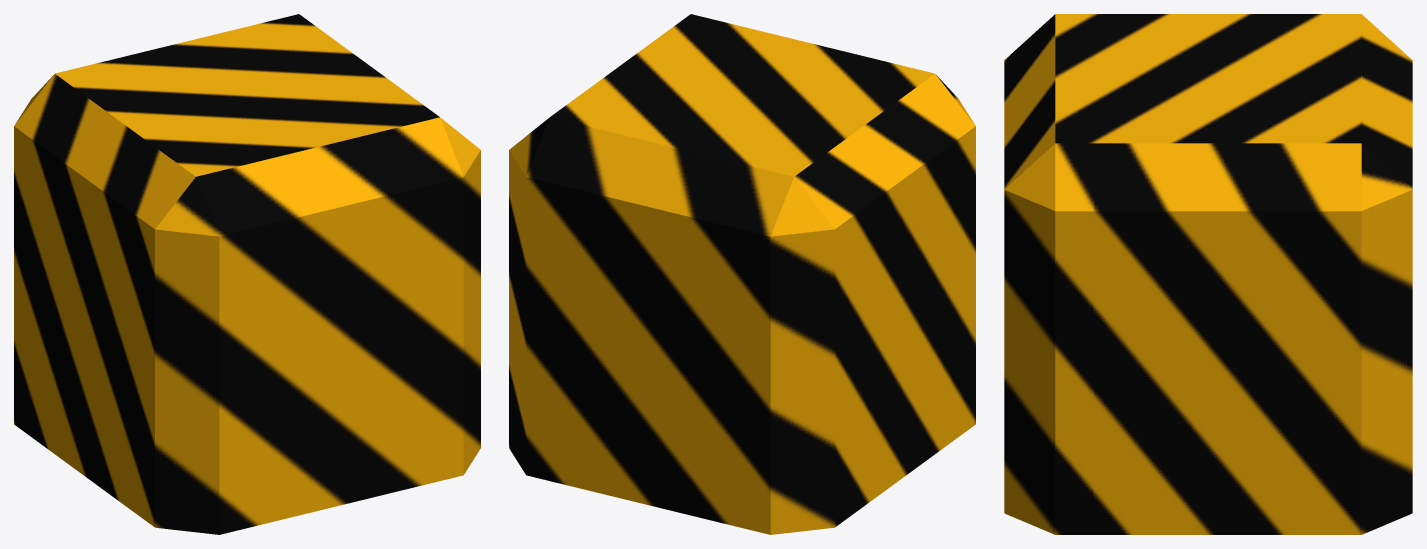
The model's file is Bevel_8.fbx.
3 renders of one model, left to right at view 1: azimuth 30°, elevation 25°; view 2: azimuth 150°, elevation 25°; view 3: azimuth 270°, elevation 25°, orthographic. The views are drawn at different scales.
Parts seen in each view (by area): view 1: Bevel_8; view 2: Bevel_8; view 3: Bevel_8.
Boxes of the visible parts, x1,y1,x2,y2 form: Bevel_8: (14,14,480,534); Bevel_8: (509,14,975,534); Bevel_8: (1004,14,1412,534).
Size of the model in its own units: 10000 by 10000 by 10000.
